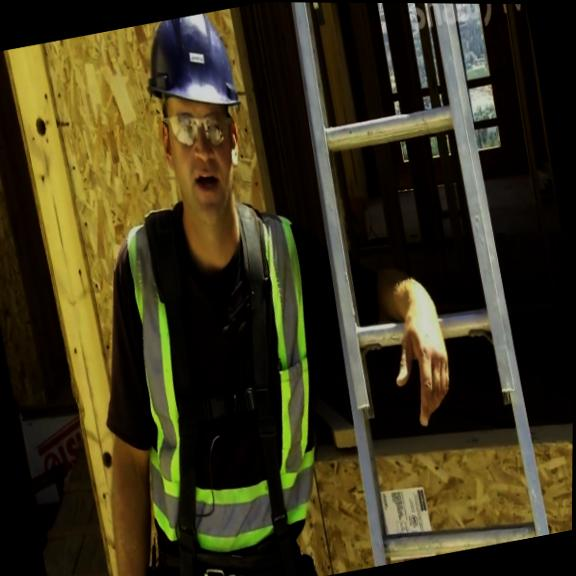safety_vest: (98, 192, 354, 567)
